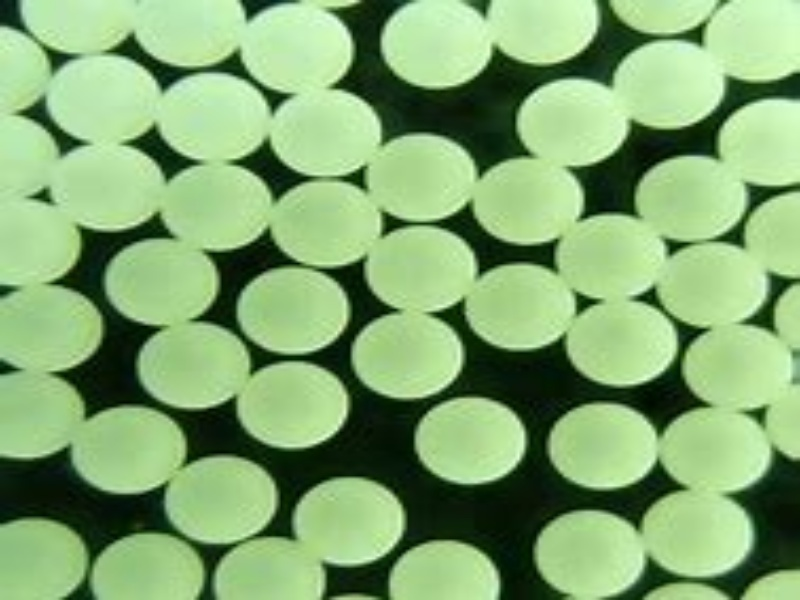bead: (291, 475, 406, 569), (414, 393, 527, 488), (164, 451, 280, 543), (515, 77, 630, 169), (533, 506, 645, 600), (681, 324, 799, 413), (631, 154, 749, 242), (565, 298, 683, 386), (44, 55, 161, 143), (238, 265, 352, 355), (467, 262, 580, 351), (352, 309, 467, 396), (475, 156, 586, 246), (164, 162, 275, 252), (102, 240, 222, 323), (71, 405, 188, 490), (137, 320, 252, 406), (364, 224, 477, 311), (614, 38, 723, 128), (368, 131, 477, 221), (380, 2, 491, 90), (548, 401, 660, 488), (156, 73, 269, 159), (52, 143, 165, 229), (644, 489, 756, 575), (244, 2, 353, 90), (275, 178, 384, 266), (659, 405, 773, 489), (661, 242, 775, 325), (272, 89, 383, 174), (241, 362, 353, 446), (1, 287, 106, 373), (559, 216, 668, 298), (90, 527, 204, 600), (704, 1, 800, 84), (210, 535, 325, 600), (133, 1, 246, 67), (383, 538, 503, 600), (719, 97, 800, 188), (1, 374, 87, 459), (1, 517, 90, 599), (490, 1, 600, 66), (1, 201, 84, 286), (17, 2, 141, 55), (742, 188, 800, 282), (1, 116, 59, 200), (1, 24, 48, 113)
